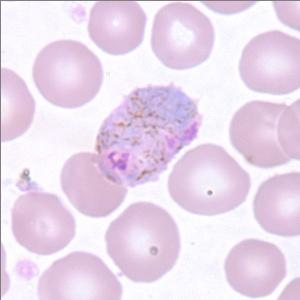Infected: (95, 81, 204, 186)
Uninfected: (104, 200, 180, 284), (166, 142, 251, 216), (32, 38, 103, 108), (228, 100, 299, 168), (60, 150, 128, 219), (149, 2, 216, 70), (11, 191, 78, 256), (38, 249, 123, 300), (239, 28, 300, 95), (225, 241, 286, 298), (87, 0, 145, 56), (253, 170, 300, 238)
